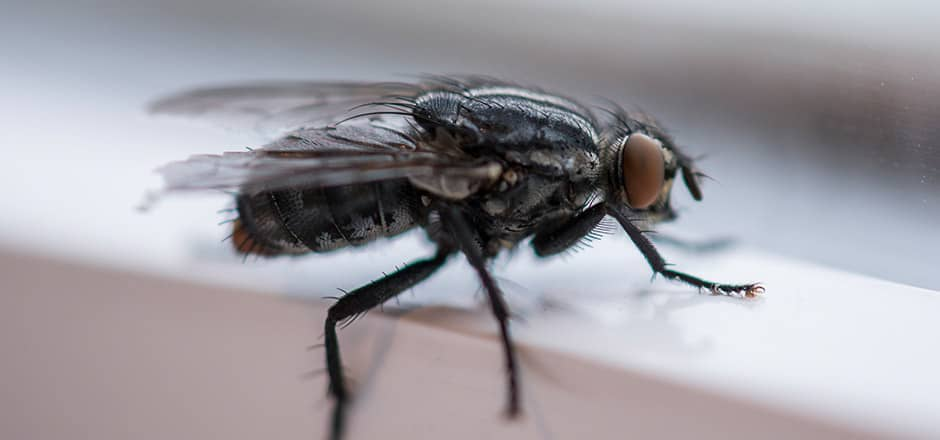fly: (128, 37, 768, 436)
